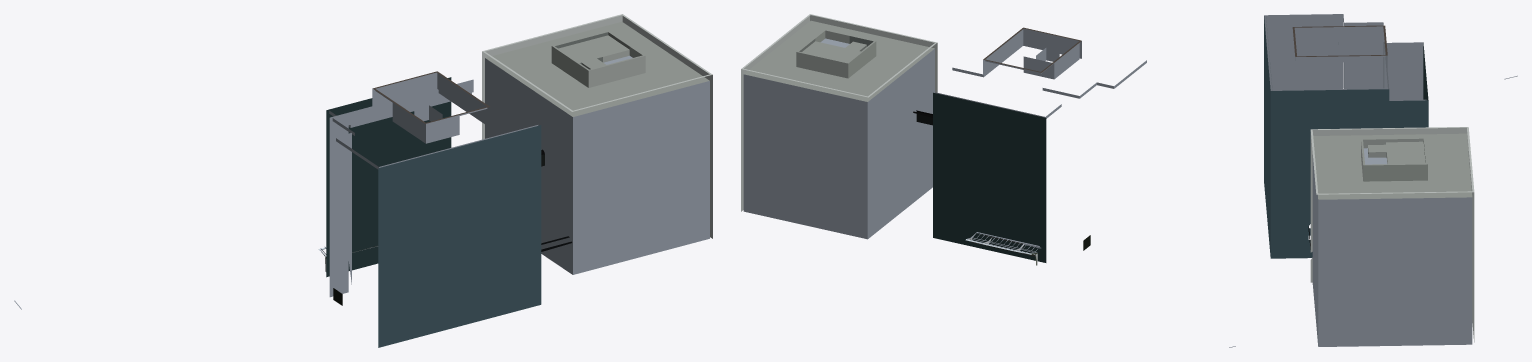
Rendered from krystal-building-tallan-financial-center.glb.
3 views of the same model, side by side, from view 1: azimuth 30°, elevation 25°; view 2: azimuth 150°, elevation 25°; view 3: azimuth 270°, elevation 25° (orthographic). The views are drawn at different scales.
Visible parts, largest first — view 1: LOD0; view 2: LOD0; view 3: LOD0.
Boxes of the visible parts, left/top/right/bottom form: LOD0: left=14, top=14, right=712, bottom=347; LOD0: left=741, top=14, right=1235, bottom=347; LOD0: left=1264, top=14, right=1517, bottom=346.
Size of what is drawn, in the model's own units: 148 by 47.4 by 59.09.
2 materials, 2 textured.
